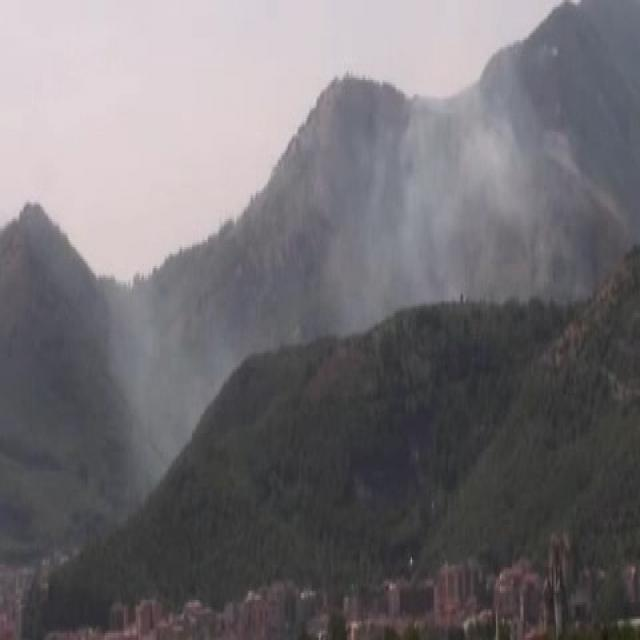smoke: (340, 89, 527, 308)
